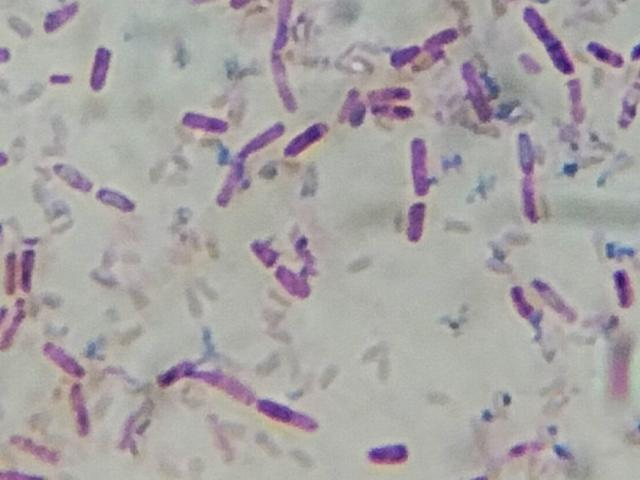E. coli: (522, 0, 573, 80), (269, 2, 305, 112), (163, 363, 250, 401), (253, 239, 299, 302), (459, 56, 497, 126), (259, 393, 319, 435), (362, 433, 423, 472), (213, 153, 254, 209), (83, 47, 118, 99), (175, 103, 230, 136), (287, 116, 330, 157), (518, 173, 548, 231), (65, 382, 96, 438), (408, 129, 433, 198), (401, 193, 431, 250), (36, 5, 83, 41), (339, 87, 370, 135), (532, 279, 569, 319), (98, 182, 135, 218), (565, 79, 592, 128), (13, 432, 50, 467), (586, 36, 622, 71), (413, 25, 457, 53), (55, 153, 86, 192), (618, 79, 640, 133), (509, 290, 534, 337), (609, 262, 634, 309), (19, 239, 40, 294), (368, 102, 413, 127), (0, 300, 20, 355), (46, 345, 81, 376), (245, 120, 286, 146), (413, 46, 446, 75), (38, 62, 71, 88), (388, 42, 418, 69), (368, 82, 403, 103), (513, 127, 530, 169), (3, 247, 17, 289)
